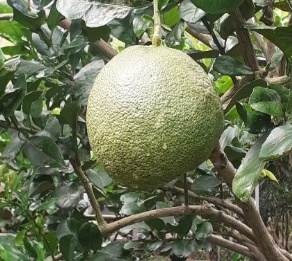Buoi: (86, 43, 225, 192)
